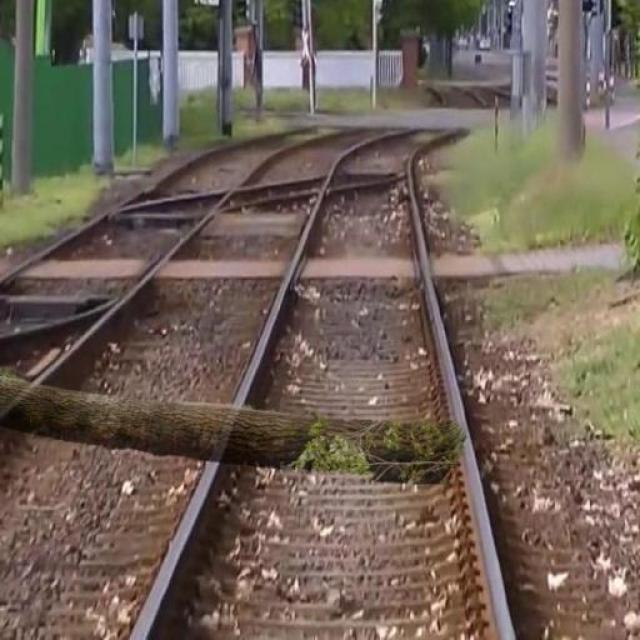Branches: (0, 364, 463, 492)
